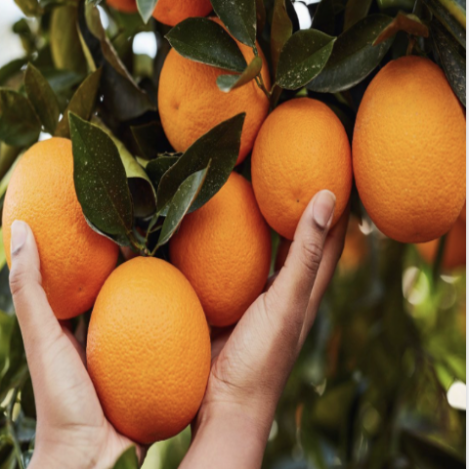orange: (74, 251, 220, 439), (333, 43, 465, 246), (246, 78, 358, 247)
